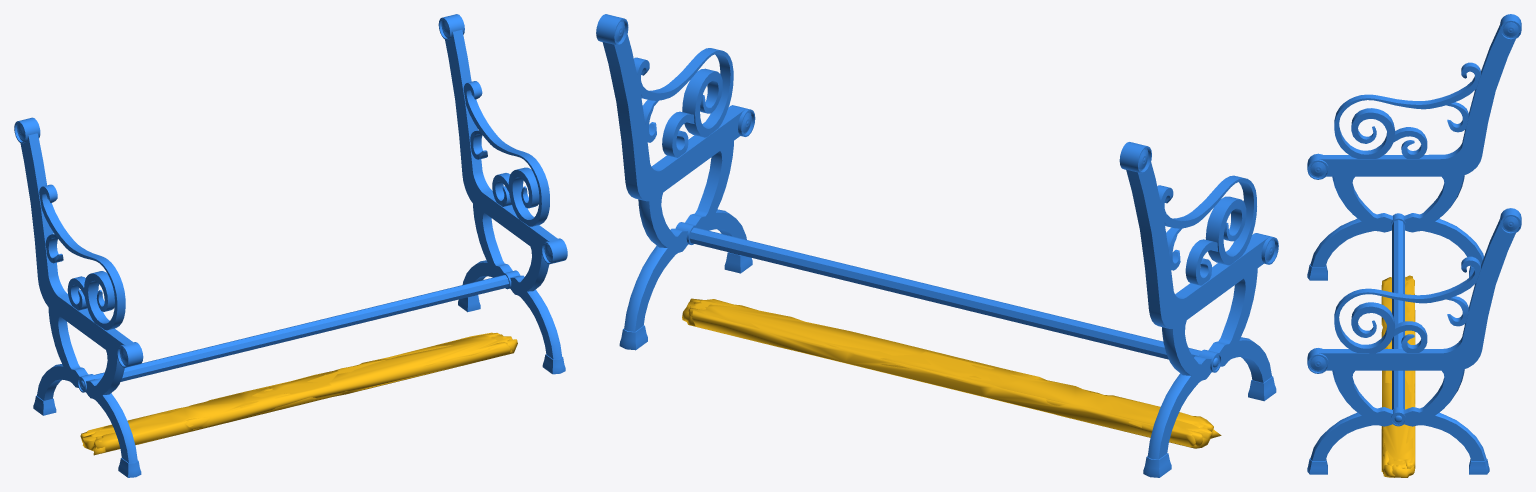
The model's file is SM_bench.fbx.
The picture shows the model from 3 angles, left to right: view 1: azimuth 30°, elevation 25°; view 2: azimuth 150°, elevation 25°; view 3: azimuth 270°, elevation 25°; orthographic projection. The views are drawn at different scales.
Visible parts, largest first — view 1: SM_bench, SM_wood_003, SM_wood_002, SM_wood_001; view 2: SM_bench, SM_wood_002, SM_wood_003, SM_wood_004; view 3: SM_bench, SM_wood_003, SM_wood_002, SM_wood_004.
Part boxes in pixels (x1,y1,x2,y2): SM_bench: (14, 14, 567, 477); SM_wood_003: (80, 333, 510, 451); SM_wood_002: (87, 332, 507, 436); SM_wood_001: (82, 337, 517, 455); SM_bench: (596, 14, 1278, 477); SM_wood_002: (688, 299, 1199, 447); SM_wood_003: (688, 299, 1213, 446); SM_wood_004: (682, 301, 1204, 427); SM_bench: (1307, 14, 1521, 474); SM_wood_003: (1381, 275, 1413, 472); SM_wood_002: (1383, 278, 1415, 469); SM_wood_004: (1383, 309, 1414, 477).
Bounding box in the file's own units: 148 × 92 × 66.72.
